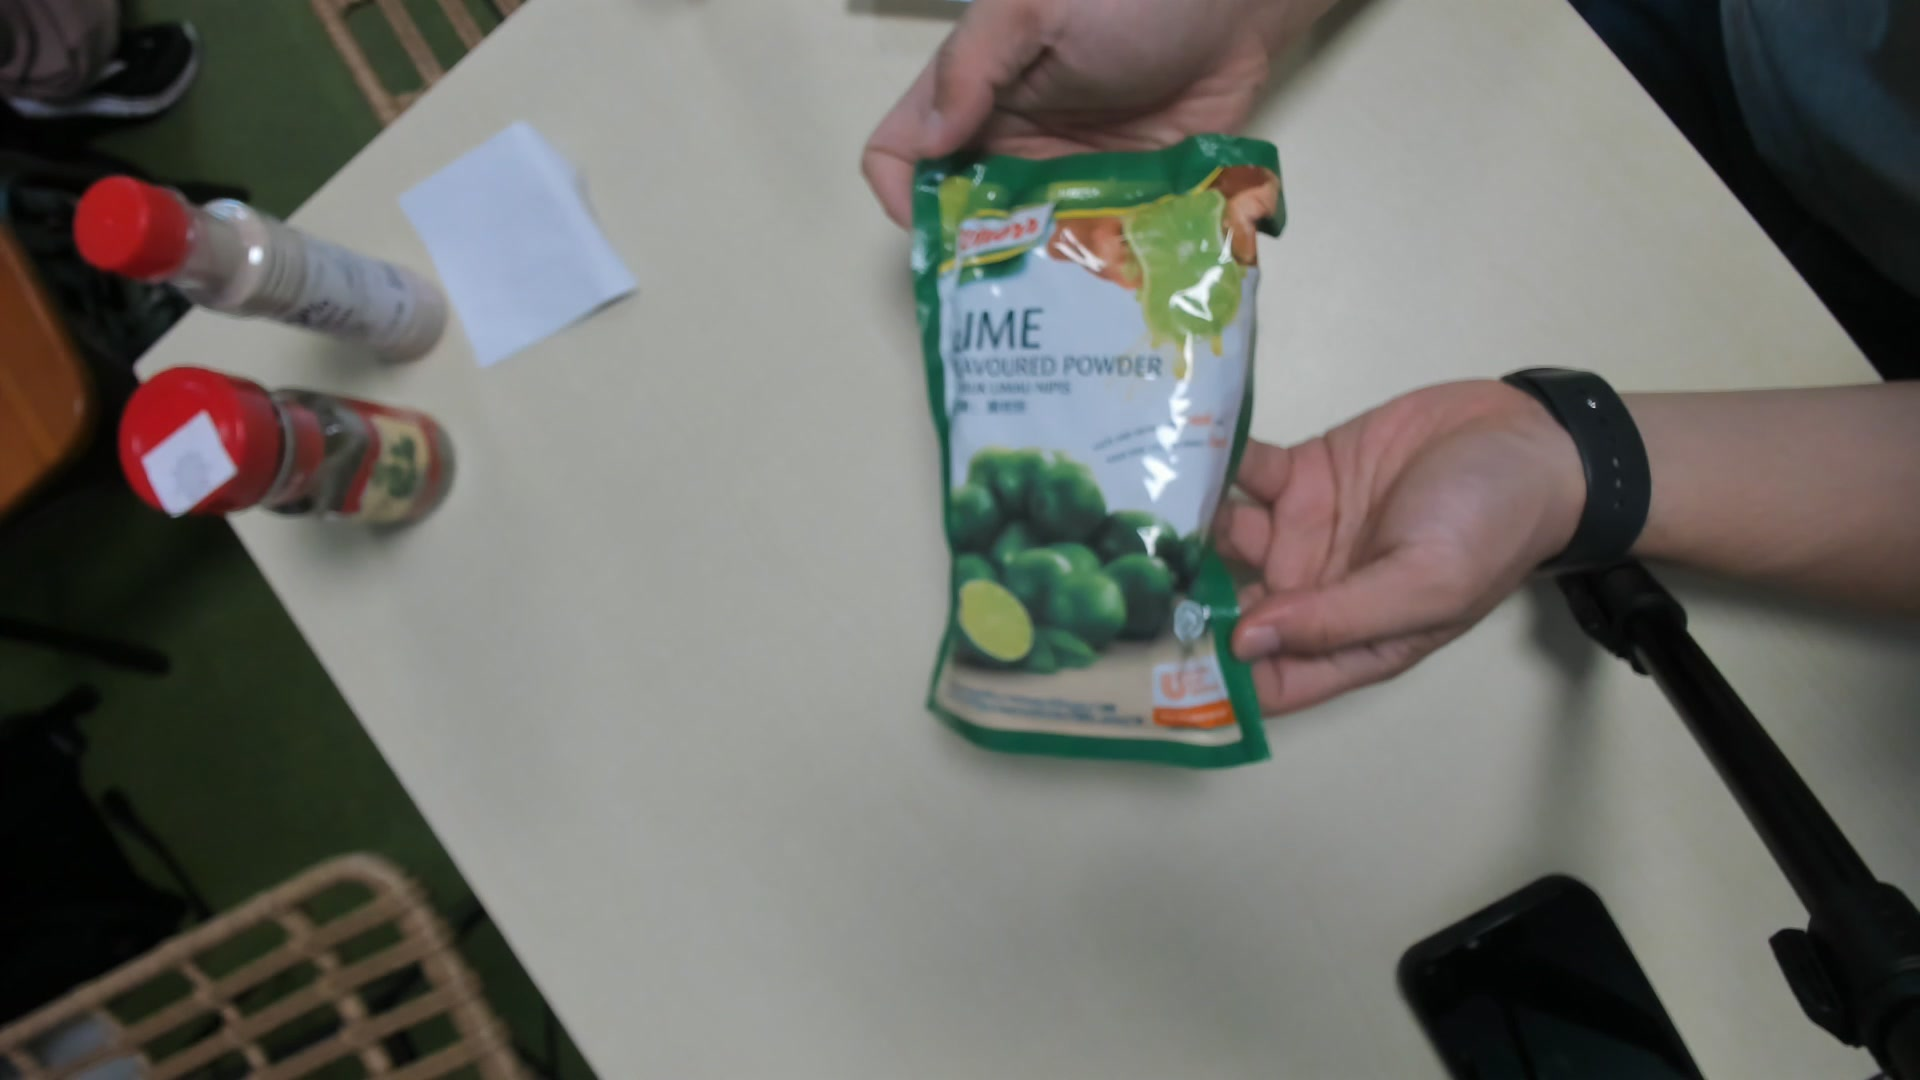HerbsSpicesPepper_400-499g_Halal_NonHealthy: (918, 140, 1261, 766)
